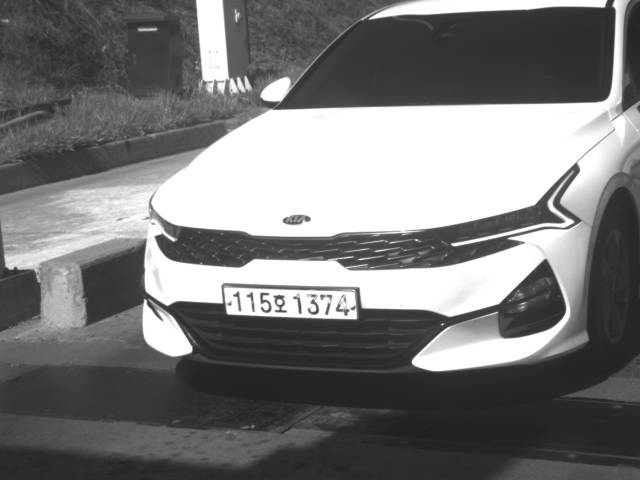car: (139, 1, 638, 395)
plate: (222, 284, 361, 322)
